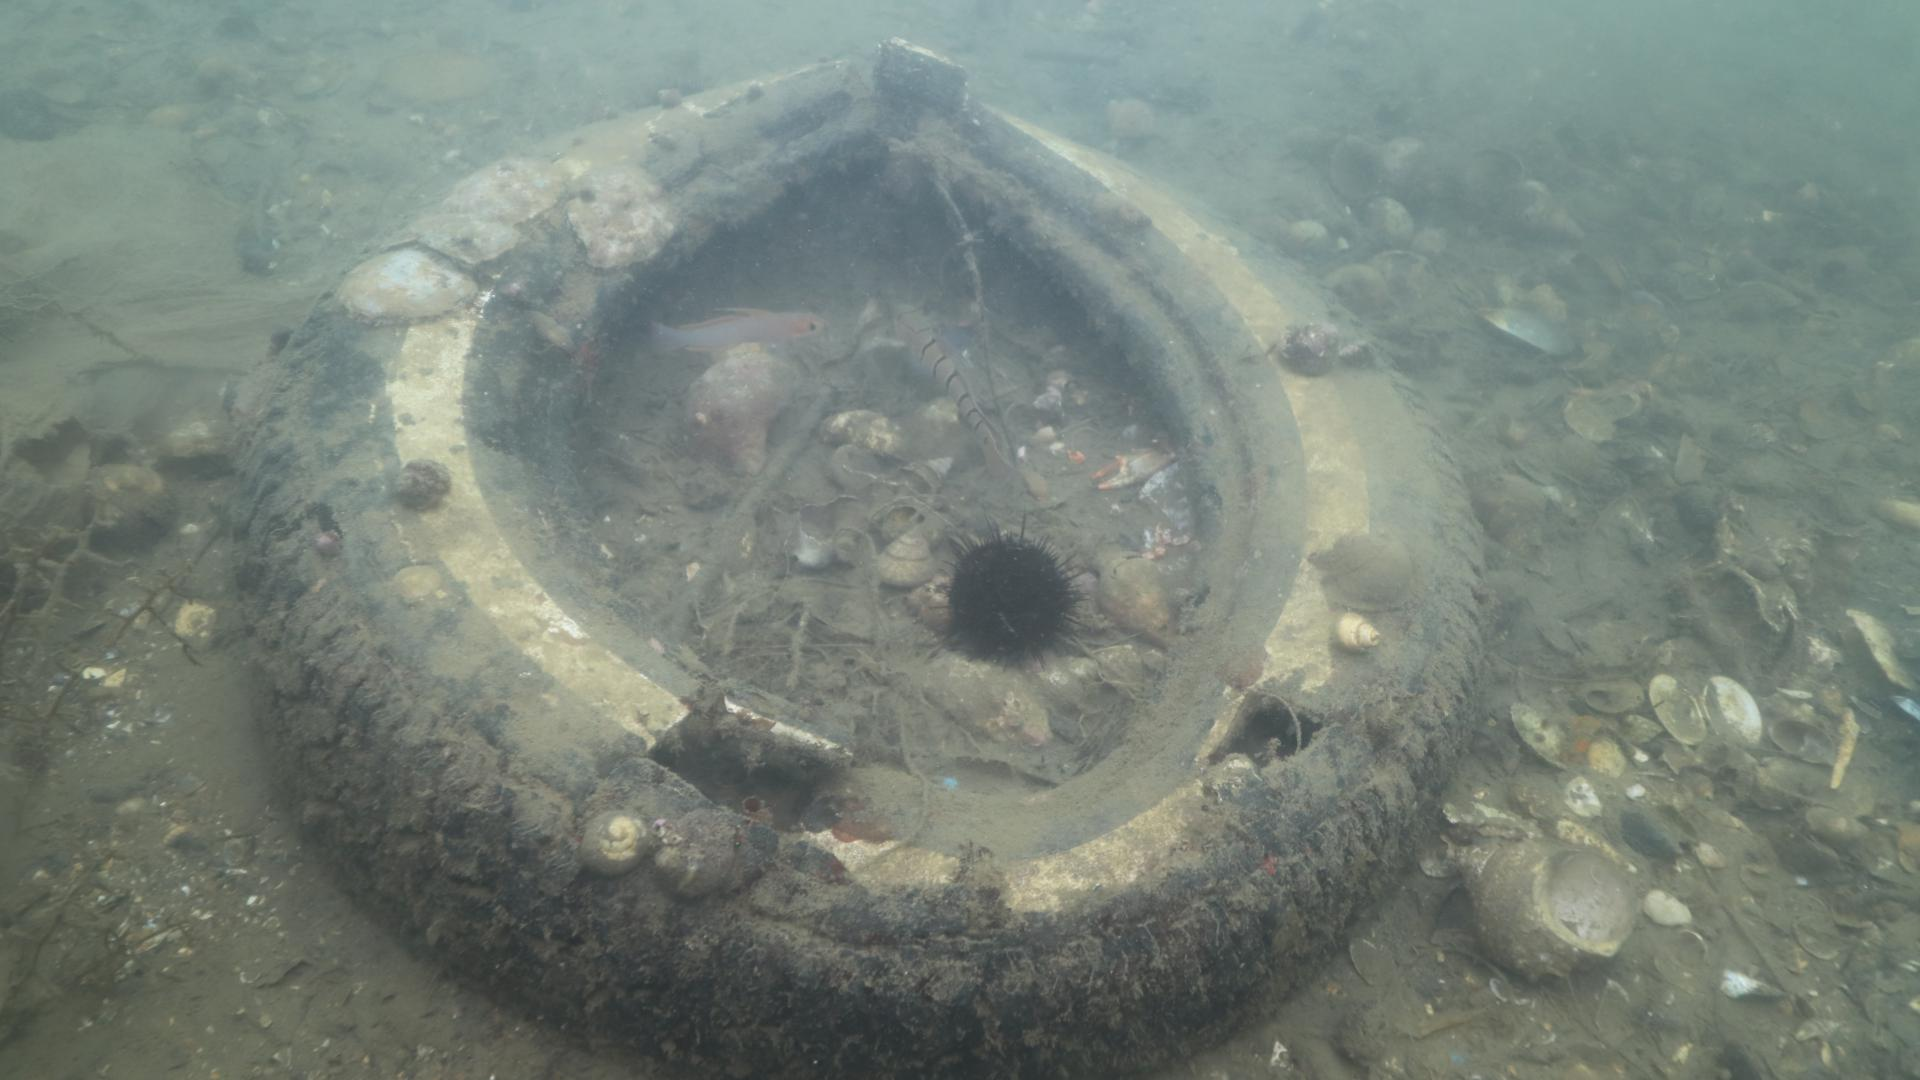tire: (237, 33, 1489, 1080)
